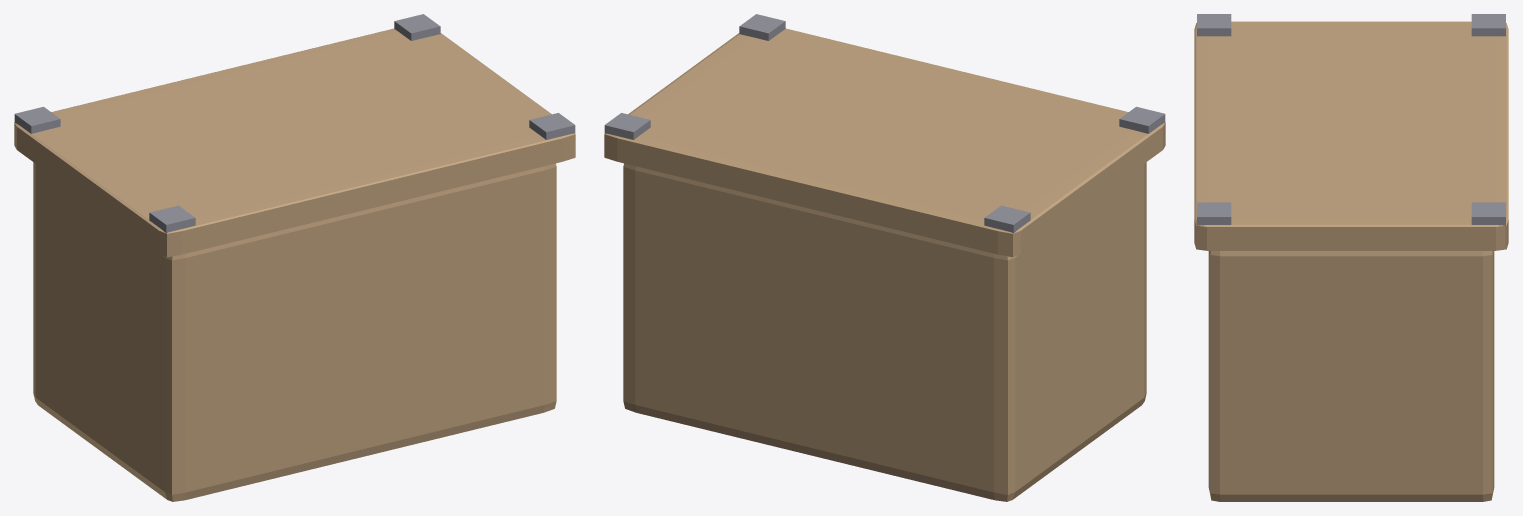
The model's file is kiste_lod0.fbx.
3 views of the same model, side by side, from view 1: azimuth 30°, elevation 25°; view 2: azimuth 150°, elevation 25°; view 3: azimuth 270°, elevation 25° (orthographic).
Visible parts, largest first — view 1: Cube, Cube.001, Cube.002, Cube.003, Cube.004, Cube.005; view 2: Cube, Cube.001, Cube.004, Cube.005, Cube.002, Cube.003; view 3: Cube, Cube.001, Cube.003, Cube.005, Cube.002, Cube.004.
Part boxes in pixels (x1=…): Cube: x1=33, y1=162, x2=556, y2=501; Cube.001: x1=14, y1=28, x2=575, y2=257; Cube.002: x1=149, y1=205, x2=195, y2=233; Cube.003: x1=529, y1=113, x2=575, y2=139; Cube.004: x1=14, y1=106, x2=60, y2=133; Cube.005: x1=394, y1=14, x2=440, y2=40; Cube: x1=623, y1=162, x2=1146, y2=501; Cube.001: x1=604, y1=28, x2=1165, y2=257; Cube.004: x1=984, y1=205, x2=1030, y2=233; Cube.005: x1=604, y1=113, x2=650, y2=139; Cube.002: x1=1119, y1=106, x2=1165, y2=133; Cube.003: x1=739, y1=14, x2=785, y2=40; Cube: x1=1208, y1=251, x2=1494, y2=501; Cube.001: x1=1194, y1=21, x2=1508, y2=250; Cube.003: x1=1197, y1=202, x2=1231, y2=247; Cube.005: x1=1471, y1=202, x2=1505, y2=247; Cube.002: x1=1197, y1=14, x2=1231, y2=36; Cube.004: x1=1471, y1=14, x2=1505, y2=36.
Size of the model in its own units: 1.7 by 1.13 by 1.1.
